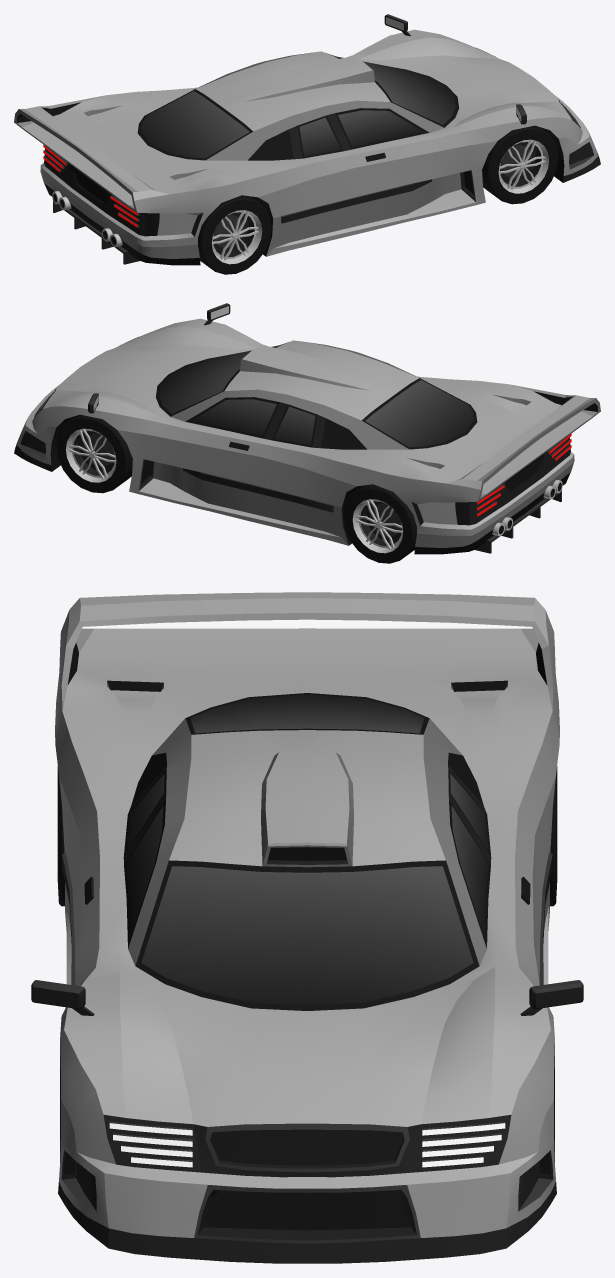
The model's file is Car_049.glb.
3 views of the same model, one above another, from view 1: azimuth 30°, elevation 25°; view 2: azimuth 150°, elevation 25°; view 3: azimuth 270°, elevation 25° (orthographic). The views are drawn at different scales.
Visible parts, largest first — view 1: Car_049, wheel_1_Car_049_Wheel_1R, wheel_3_Car_049_Wheel_2R; view 2: Car_049, wheel_0_Car_049_Wheel_1L, wheel_2_Car_049_Wheel_2L; view 3: Car_049.
Part boxes in pixels (box(x1,y1,x2,y2)): Car_049: box(14, 14, 600, 265); wheel_1_Car_049_Wheel_1R: box(482, 125, 558, 204); wheel_3_Car_049_Wheel_2R: box(198, 195, 271, 274); Car_049: box(14, 303, 600, 554); wheel_0_Car_049_Wheel_1L: box(56, 414, 132, 493); wheel_2_Car_049_Wheel_2L: box(343, 484, 416, 563); Car_049: box(31, 592, 583, 1263).
Bounding box in the file's own units: 4.99 × 1.17 × 2.43.
2 materials, 2 textured.
